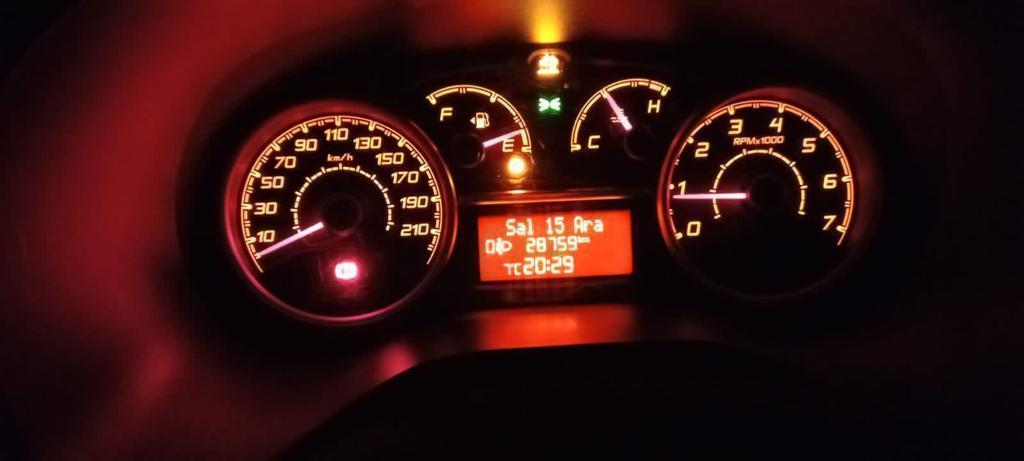0: (534, 256, 545, 274), (485, 238, 495, 254)
1: (544, 215, 552, 234)
2: (551, 255, 561, 273), (523, 257, 533, 275), (526, 237, 535, 252)
5: (553, 216, 564, 233), (557, 235, 566, 251)
7: (547, 236, 557, 251), (503, 263, 511, 275)
8: (536, 236, 546, 252)
9: (562, 255, 573, 272), (568, 235, 577, 251)
X: (505, 216, 515, 236), (573, 214, 582, 233), (526, 216, 534, 235), (593, 217, 603, 232), (516, 221, 525, 235), (583, 219, 592, 232), (514, 261, 521, 275), (583, 236, 590, 244), (546, 258, 550, 271), (578, 235, 583, 244)
odometer: (476, 208, 636, 282)
